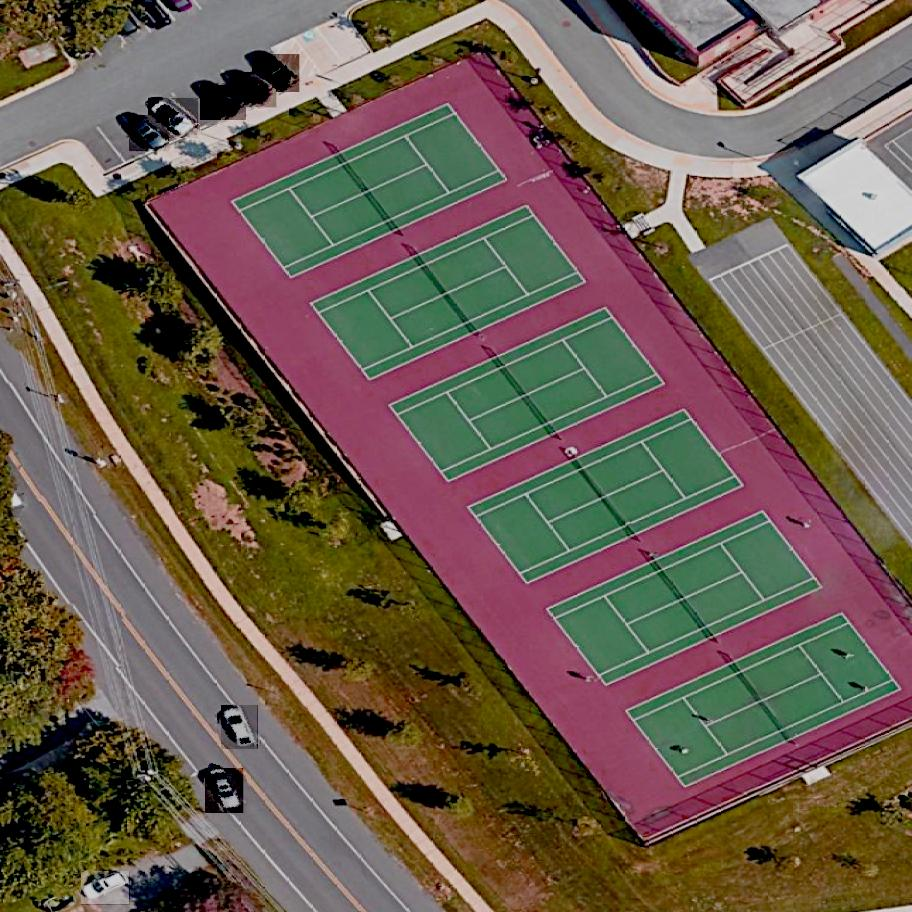small-vehicle: (148, 95, 199, 142), (252, 51, 301, 96), (229, 69, 277, 112), (206, 765, 244, 816), (82, 868, 131, 906), (222, 703, 259, 752), (201, 84, 246, 123), (129, 114, 169, 155)
